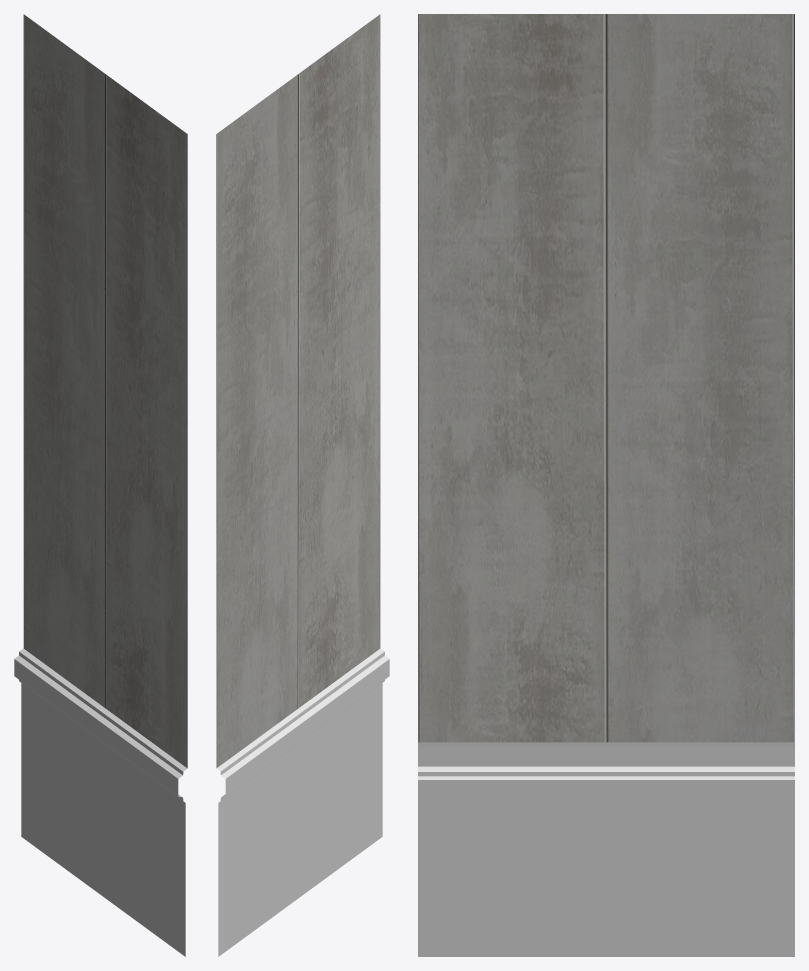
File: S_Wall.fbx
The picture shows the model from 3 angles, left to right: view 1: azimuth 30°, elevation 25°; view 2: azimuth 150°, elevation 25°; view 3: azimuth 270°, elevation 25°; orthographic projection. The views are drawn at different scales.
Visible parts, largest first — view 1: S_Wall; view 2: S_Wall; view 3: S_Wall.
Boxes of the visible parts, x1,y1,x2,y2 form: S_Wall: (14, 14, 187, 956); S_Wall: (216, 14, 389, 956); S_Wall: (418, 14, 794, 956).
Bounding box in the file's own units: 13.02 × 1106 × 400.
